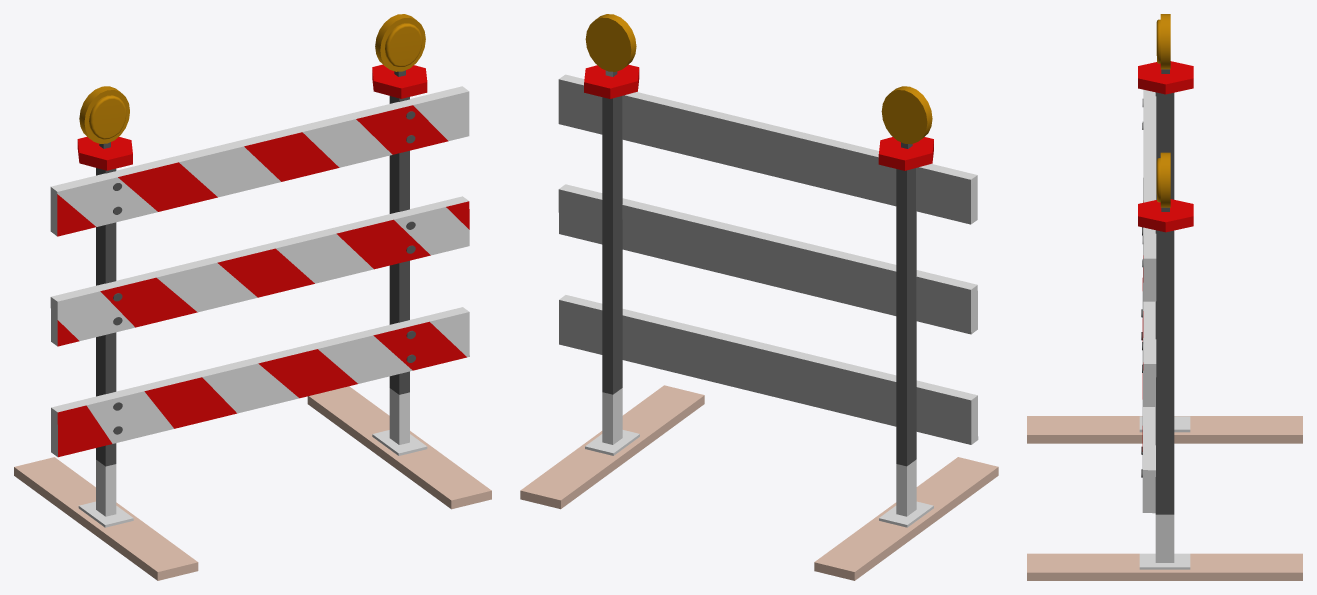
Rendered from barrier.fbx.
The picture shows the model from 3 angles, left to right: view 1: azimuth 30°, elevation 25°; view 2: azimuth 150°, elevation 25°; view 3: azimuth 270°, elevation 25°; orthographic projection. The views are drawn at different scales.
Parts seen in each view (by area): view 1: pCylinder5; view 2: pCylinder5; view 3: pCylinder5.
Part boxes in pixels (x1,y1,x2,y2): pCylinder5: [14, 14, 491, 580]; pCylinder5: [520, 14, 998, 580]; pCylinder5: [1027, 14, 1302, 580].
Bounding box in the file's own units: 424 × 428 × 256.
